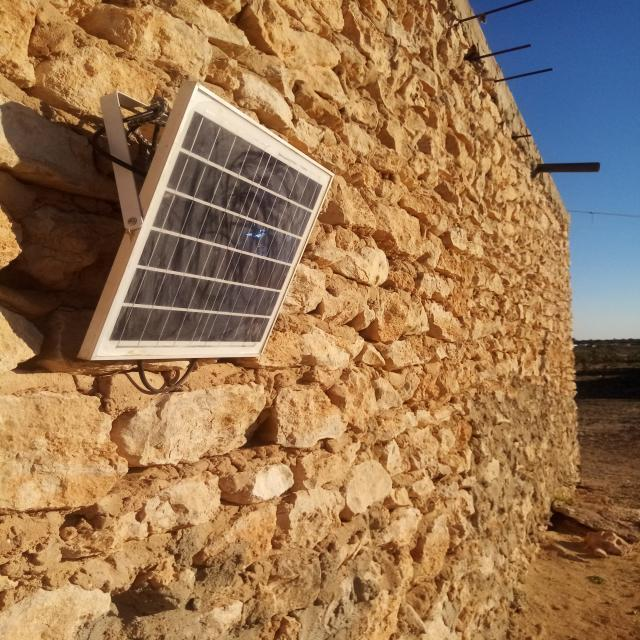faulty: (92, 84, 334, 358)
